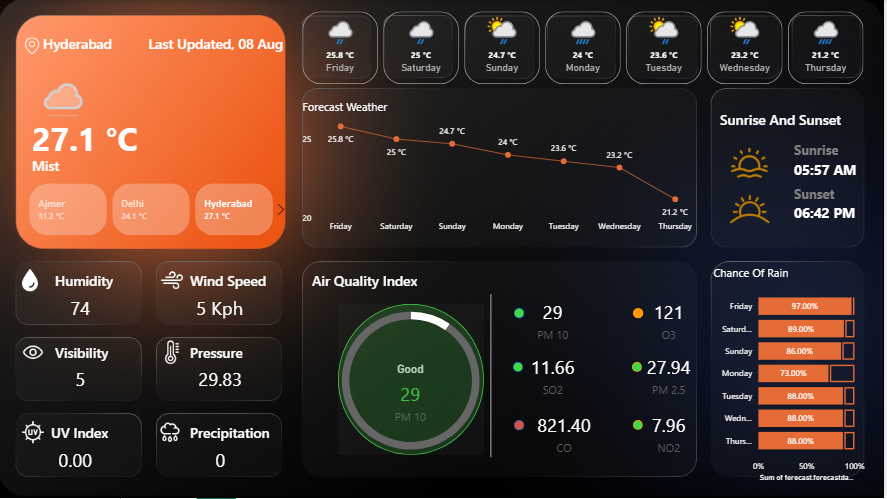

This screenshot's page, from the dashboard's own definition file:
{"tool":"powerbi","page":{"name":"Page 1","canvas":[1280,720],"ordinal":0},"visuals":[{"type":"advancedSlicerVisual","fields":{"Values":["locations.location.name"]},"box":[18.5,260.4,404.8,85.7],"z":0},{"type":"shape","box":[47,159.6,168,80.6],"z":1000},{"type":"shape","box":[47,220.1,376.3,38.6],"z":2000},{"type":"shape","box":[63.8,43.7,149.5,38.6],"z":3000},{"type":"shape","box":[191.5,43.7,220.1,38.6],"z":4000},{"type":"image","box":[18.5,48.7,57.1,33.6],"z":5000},{"type":"cardVisual","fields":{"Data":["Min(current.current.condition.icon)"]},"box":[31.9,82.3,107.5,90.7],"z":6000},{"type":"image","box":[23.5,487.1,52.1,43.7],"z":7000},{"type":"shape","box":[80.6,487.1,115.9,43.7],"z":8000},{"type":"shape","box":[80.6,383,115.9,43.7],"z":9000},{"type":"shape","box":[75.6,603,115.9,43.7],"z":10000},{"type":"shape","box":[275.5,383,115.9,43.7],"z":11000},{"type":"shape","box":[275.5,487.1,115.9,43.7],"z":12000},{"type":"shape","box":[275.5,603,115.9,43.7],"z":13000},{"type":"image","box":[18.5,383,52.1,43.7],"z":14000},{"type":"image","box":[23.5,603,52.1,43.7],"z":15000},{"type":"image","box":[223.4,383,52.1,43.7],"z":16000},{"type":"image","box":[223.4,487.1,52.1,43.7],"z":17000},{"type":"image","box":[221.7,603,52.1,43.7],"z":18000},{"type":"card","fields":{"Values":["Sum(current.current.humidity)"]},"box":[71.1,426.7,93.6,39.3],"z":19000},{"type":"card","fields":{"Values":["_measures.Wind_Speed"]},"box":[260.1,426.7,117.9,39.3],"z":20000},{"type":"card","fields":{"Values":["Sum(current.current.pressure_in)"]},"box":[273.2,529.6,93.6,39.3],"z":21000},{"type":"card","fields":{"Values":["Sum(current.current.precip_in)"]},"box":[273.2,645.6,93.6,39.3],"z":22000},{"type":"card","fields":{"Values":["Sum(current.current.uv)"]},"box":[63.6,645.6,93.6,39.3],"z":23000},{"type":"card","fields":{"Values":["Sum(current.current.vis_km)"]},"box":[71.1,529.6,93.6,39.3],"z":24000},{"type":"advancedSlicerVisual","fields":{"Values":["forecast_day.day_name"]},"box":[433.7,11.6,822.7,115.7],"z":25000},{"type":"lineChart","title":"Forecast Weather","fields":{"Y":["Sum(forecast_day.forecast.forecastday.day.avgtemp_c)"],"Category":["forecast_day.day_name"]},"box":[433.7,143.1,581.2,202.4],"z":26000},{"type":"shape","box":[1042.2,143,214.5,57.2],"z":27000},{"type":"shape","box":[1149.5,203.8,107.3,80.4],"z":28000},{"type":"shape","box":[1149.5,266.4,107.3,80.4],"z":29000},{"type":"shape","box":[1149.5,193.1,107.3,46.5],"z":30000},{"type":"shape","box":[1149.5,257.4,107.3,46.5],"z":31000},{"type":"image","box":[1042.2,203.8,85.8,62.6],"z":32000},{"type":"image","box":[1042.2,257.4,85.8,89.4],"z":33000},{"type":"hundredPercentStackedBarChart","title":"Chance Of Rain","fields":{"Y":["Sum(forecast_day.forecast.forecastday.day.daily_chance_of_rain)","current.Left_value_rain"],"Category":["forecast_day.day_name"]},"box":[1027.9,382.6,228.8,318.2],"z":34000},{"type":"shape","box":[452.3,375.4,214.5,57.2],"z":35000},{"type":"card","fields":{"Values":["Sum(current.current.air_quality.o3)"]},"box":[909.9,425.5,118,73.3],"z":36000},{"type":"card","fields":{"Values":["Sum(current.current.air_quality.pm2_5)"]},"box":[909.9,504.1,118,73.3],"z":37000},{"type":"card","fields":{"Values":["Sum(current.current.air_quality.no2)"]},"box":[909.9,588.2,118,73.3],"z":38000},{"type":"card","fields":{"Values":["Sum(current.current.air_quality.co)"]},"box":[756.9,589.9,118.7,72.3],"z":39000},{"type":"card","fields":{"Values":["Sum(current.current.air_quality.so2)"]},"box":[741.9,504.1,118,73.3],"z":40000},{"type":"card","fields":{"Values":["Sum(current.current.air_quality.pm10)"]},"box":[741.9,425.5,118,73.3],"z":41000},{"type":"shape","box":[743.9,445.2,14.8,14.8],"z":42000},{"type":"shape","box":[743.9,606.6,14.8,14.8],"z":43000},{"type":"shape","box":[743.1,523.4,14.5,14.5],"z":44000},{"type":"shape","box":[916.4,445.2,14.8,14.8],"z":45000},{"type":"shape","box":[915.2,523.4,14.5,14.5],"z":46000},{"type":"shape","box":[917.1,607.8,14.3,14.3],"z":47000},{"type":"shape","box":[640,425.5,141.2,236],"z":48000},{"type":"card","fields":{"Values":["Sum(current.current.air_quality.pm10)"]},"box":[497,523.8,194.9,96.5],"z":49000},{"type":"shape","box":[489.8,439.8,210.9,218.1],"z":49500},{"type":"donutChart","fields":{"Y":["Sum(current.current.air_quality.pm10)","_measures.Left_Value_pm10"]},"box":[454.1,420.1,282.5,259.2],"z":50000}]}

Visuals, with their boxes in screenshot pixels (x1, y1, x2, y2), scaled from the page's 1280x720 canvas onto the 887x499 screenshot:
advancedSlicerVisual - locations.location.name: 13,180,293,240
shape: 33,111,149,166
shape: 33,153,293,179
shape: 44,30,148,57
shape: 133,30,285,57
image: 13,34,52,57
cardVisual - Min(current.current.condition.icon): 22,57,97,120
image: 16,338,52,368
shape: 56,338,136,368
shape: 56,265,136,296
shape: 52,418,133,448
shape: 191,265,271,296
shape: 191,338,271,368
shape: 191,418,271,448
image: 13,265,49,296
image: 16,418,52,448
image: 155,265,191,296
image: 155,338,191,368
image: 154,418,190,448
card - Sum(current.current.humidity): 49,296,114,323
card - _measures.Wind_Speed: 180,296,262,323
card - Sum(current.current.pressure_in): 189,367,254,394
card - Sum(current.current.precip_in): 189,447,254,475
card - Sum(current.current.uv): 44,447,109,475
card - Sum(current.current.vis_km): 49,367,114,394
advancedSlicerVisual - forecast_day.day_name: 301,8,871,88
"Forecast Weather" lineChart: 301,99,703,239
shape: 722,99,871,139
shape: 797,141,871,197
shape: 797,185,871,240
shape: 797,134,871,166
shape: 797,178,871,211
image: 722,141,782,185
image: 722,178,782,240
"Chance Of Rain" hundredPercentStackedBarChart: 712,265,871,486
shape: 313,260,462,300
card - Sum(current.current.air_quality.o3): 631,295,712,346
card - Sum(current.current.air_quality.pm2_5): 631,349,712,400
card - Sum(current.current.air_quality.no2): 631,408,712,458
card - Sum(current.current.air_quality.co): 525,409,607,459
card - Sum(current.current.air_quality.so2): 514,349,596,400
card - Sum(current.current.air_quality.pm10): 514,295,596,346
shape: 515,309,526,319
shape: 515,420,526,431
shape: 515,363,525,373
shape: 635,309,645,319
shape: 634,363,644,373
shape: 636,421,645,431
shape: 444,295,541,458
card - Sum(current.current.air_quality.pm10): 344,363,479,430
shape: 339,305,486,456
donutChart - Sum(current.current.air_quality.pm10) x _measures.Left_Value_pm10: 315,291,510,471
